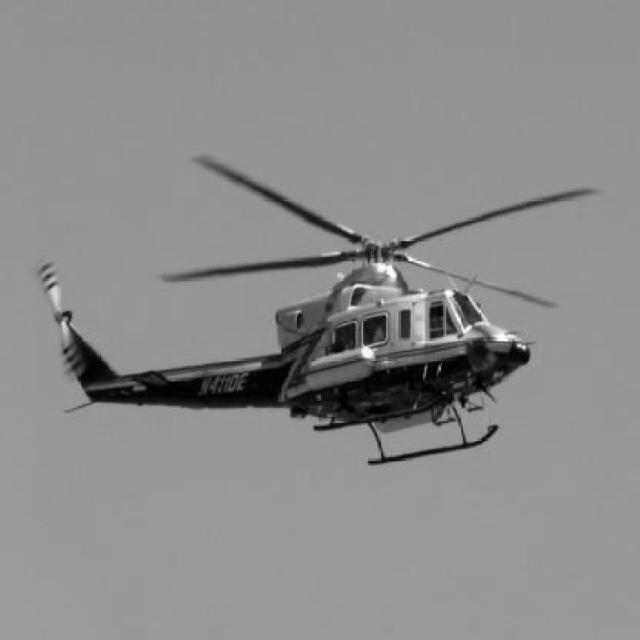helikopter: (14, 144, 606, 492)
